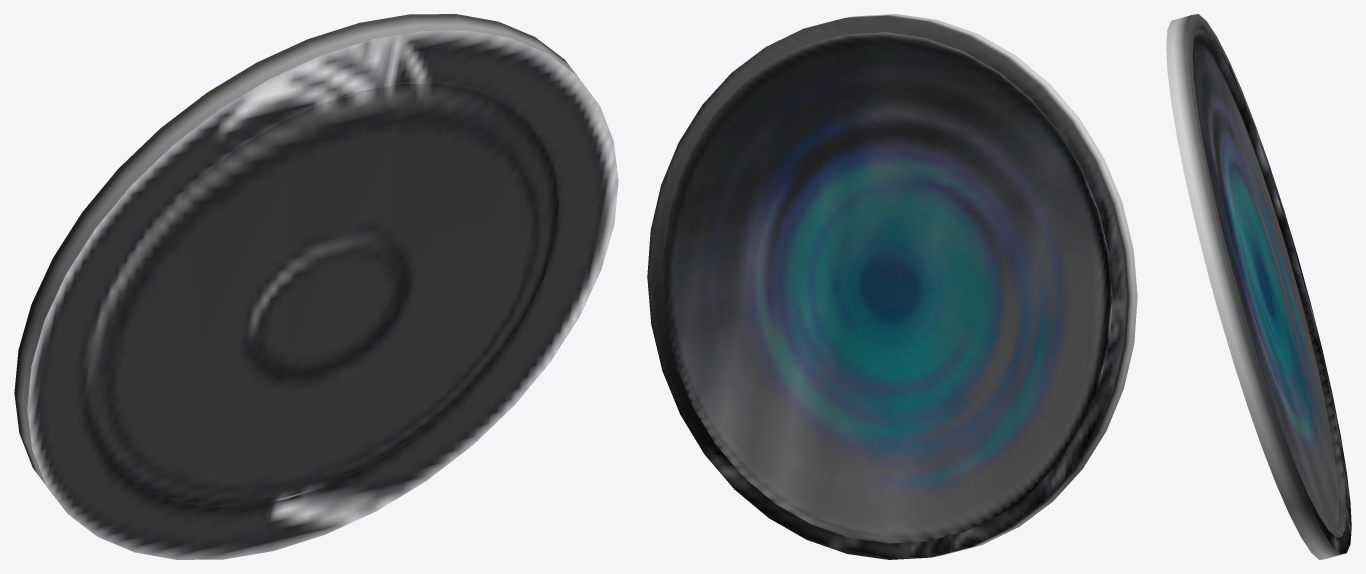
File: SAVE.ICO.obj
3 renders of one model, left to right at view 1: azimuth 30°, elevation 25°; view 2: azimuth 150°, elevation 25°; view 3: azimuth 270°, elevation 25°, orthographic. The views are drawn at different scales.
Size of the model in its own units: 3.33 by 3.23 by 1.1.
1 material, 1 textured.
